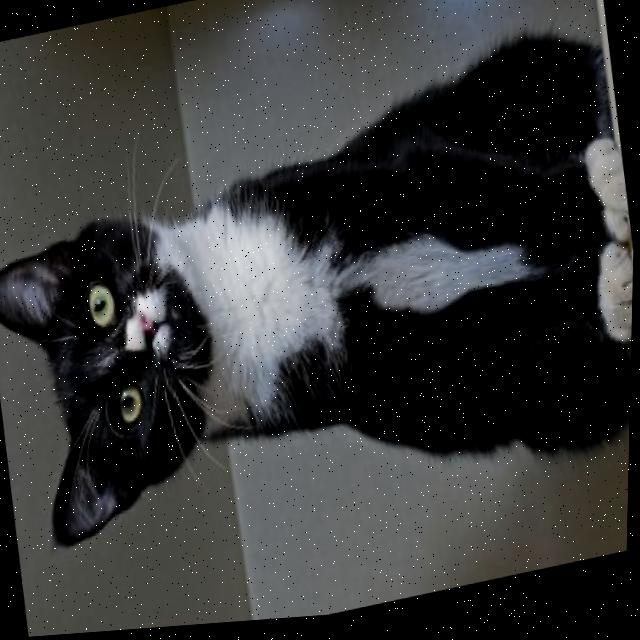Tuxedo: (0, 22, 639, 576)
